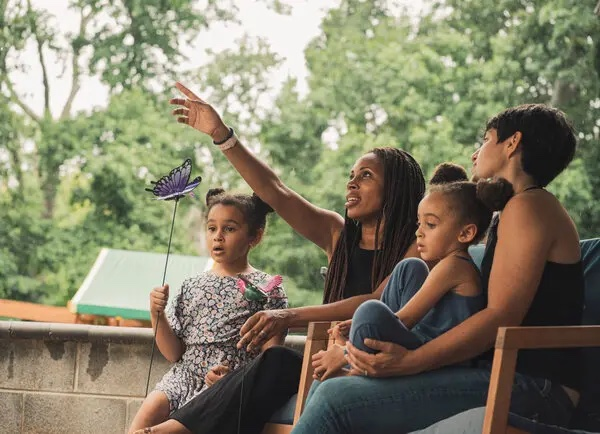Head: (415, 183, 476, 260), (206, 188, 263, 263), (470, 103, 521, 182), (345, 147, 398, 219)
